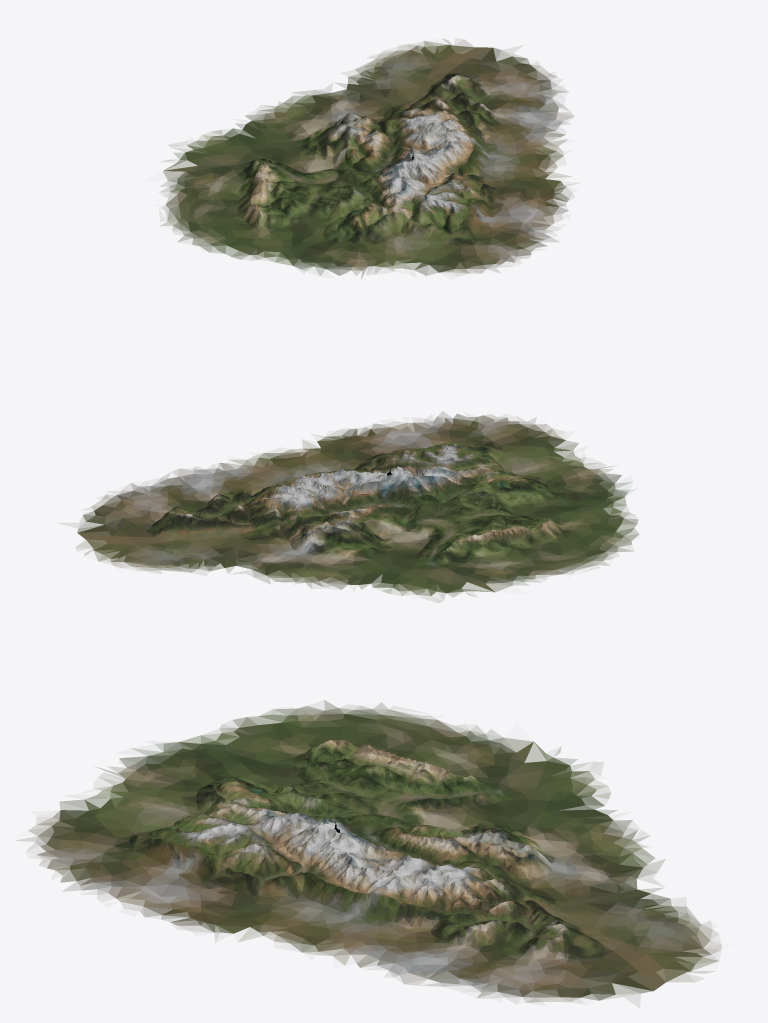
File: map_attribs_13.glb
The picture shows the model from 3 angles, top to bottom: view 1: azimuth 30°, elevation 25°; view 2: azimuth 150°, elevation 25°; view 3: azimuth 270°, elevation 25°; orthographic projection. The views are drawn at different scales.
Parts seen in each view (by area): view 1: map_tri; view 2: map_tri; view 3: map_tri.
Part boxes in pixels (bbox=[...]): map_tri: bbox=[160, 39, 576, 278]; map_tri: bbox=[75, 411, 639, 602]; map_tri: bbox=[16, 700, 721, 1004].
Bounding box in the file's own units: 235 × 13.45 × 235.
Materials: 3 (2 with a texture image).
